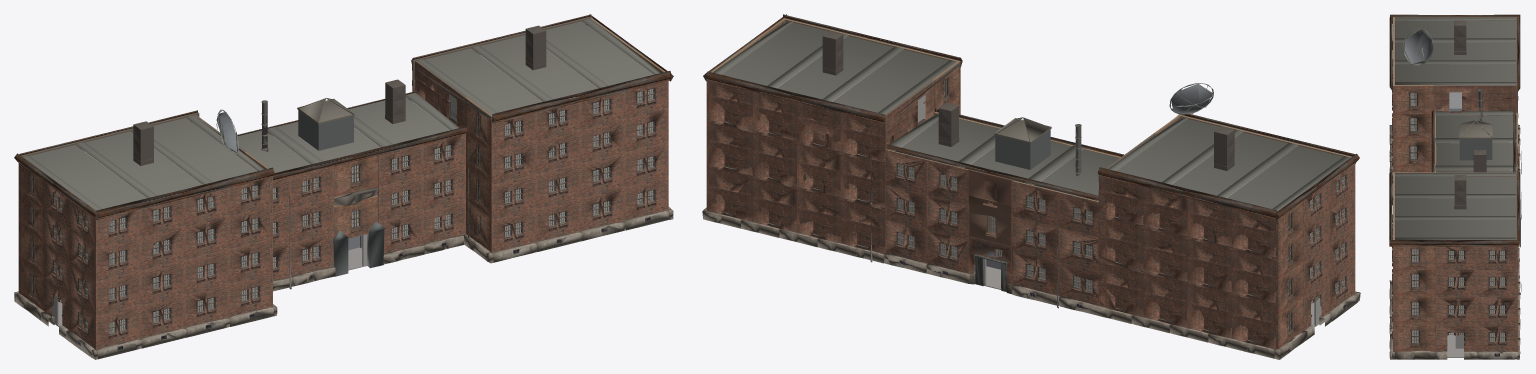
File: prison-block.access-v10.lod0.glb
3 views of the same model, side by side, from view 1: azimuth 30°, elevation 25°; view 2: azimuth 150°, elevation 25°; view 3: azimuth 270°, elevation 25° (orthographic). The views are drawn at different scales.
Visible parts, largest first — view 1: Jail_Build9_MAT_0, Jail_GLASS_Clear_m_0, Jail_Build7_MAT_0, Jail_grills_mat_0, Jail_Build8_MAT_0, Jail_Build1_MAT_0, Jail_Build4_MAT_0; view 2: Jail_Build1_MAT_0, Jail_GLASS_Clear_m_0, Jail_Build9_MAT_0, Jail_grills_mat_0, Jail_Build4_MAT_0, Jail_Build7_MAT_0, Jail_Build8_MAT_0; view 3: Jail_GLASS_Clear_m_0, Jail_Build9_MAT_0, Jail_Build7_MAT_0, Jail_grills_mat_0, Jail_Build1_MAT_0, Jail_Build8_MAT_0, Jail_Build4_MAT_0.
Boxes of the visible parts, x1,y1,x2,y2 form: Jail_Build9_MAT_0: [44, 17, 668, 349]; Jail_GLASS_Clear_m_0: [23, 18, 660, 332]; Jail_Build7_MAT_0: [18, 54, 665, 310]; Jail_grills_mat_0: [14, 14, 673, 293]; Jail_Build8_MAT_0: [40, 210, 669, 359]; Jail_Build1_MAT_0: [21, 17, 590, 156]; Jail_Build4_MAT_0: [14, 207, 673, 359]; Jail_Build1_MAT_0: [709, 80, 1275, 349]; Jail_GLASS_Clear_m_0: [713, 21, 1350, 330]; Jail_Build9_MAT_0: [706, 18, 1355, 330]; Jail_grills_mat_0: [703, 14, 1359, 331]; Jail_Build4_MAT_0: [702, 210, 1360, 359]; Jail_Build7_MAT_0: [758, 19, 1303, 348]; Jail_Build8_MAT_0: [703, 207, 1357, 339]; Jail_GLASS_Clear_m_0: [1392, 17, 1521, 357]; Jail_Build9_MAT_0: [1392, 16, 1518, 351]; Jail_Build7_MAT_0: [1395, 16, 1516, 351]; Jail_grills_mat_0: [1389, 14, 1520, 343]; Jail_Build1_MAT_0: [1434, 17, 1518, 239]; Jail_Build8_MAT_0: [1389, 126, 1517, 359]; Jail_Build4_MAT_0: [1389, 124, 1520, 359].
Size of the model in its own units: 51.78 by 17.11 by 12.72.
8 materials, 7 textured.
